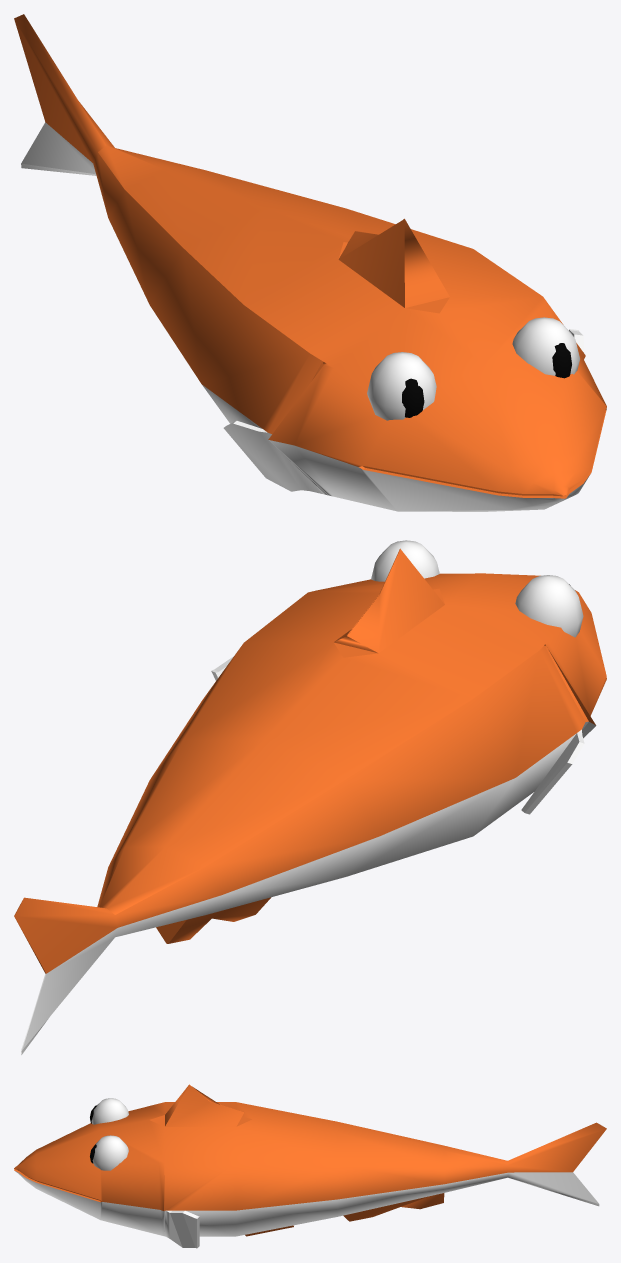
Rendered from pezSardina1.fbx.
3 views of the same model, one above another, from view 1: azimuth 30°, elevation 25°; view 2: azimuth 150°, elevation 25°; view 3: azimuth 270°, elevation 25° (orthographic). The views are drawn at different scales.
Parts seen in each view (by area): view 1: Cylinder001, Sphere001, Sphere002, Sphere003; view 2: Cylinder001, Sphere001, Sphere002; view 3: Cylinder001, Sphere002, Sphere001.
Boxes of the visible parts, x1,y1,x2,y2 form: Cylinder001: (14, 14, 606, 511); Sphere001: (367, 352, 436, 420); Sphere002: (512, 317, 579, 375); Sphere003: (402, 378, 424, 417); Cylinder001: (14, 548, 606, 1054); Sphere001: (515, 575, 583, 637); Sphere002: (371, 540, 439, 581); Cylinder001: (14, 1084, 606, 1248); Sphere002: (92, 1135, 128, 1170); Sphere001: (91, 1098, 128, 1124).
Bounding box in the file's own units: 79.91 × 60.13 × 212.
